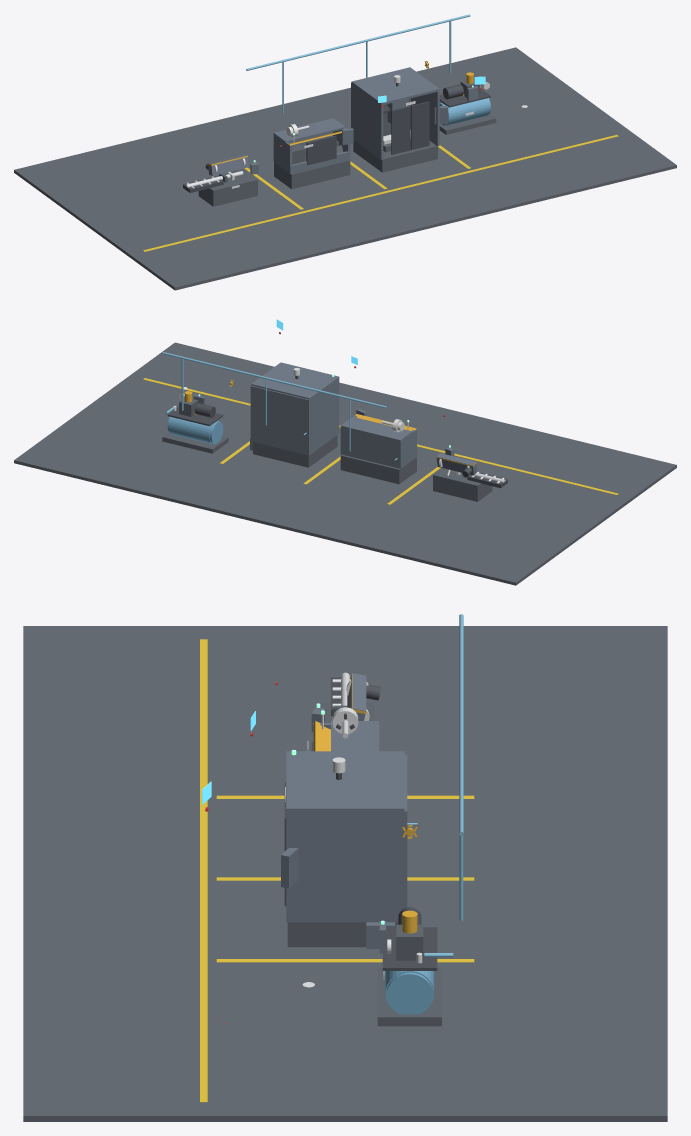
Rendered from factory_scene.glb.
The picture shows the model from 3 angles, top to bottom: view 1: azimuth 30°, elevation 25°; view 2: azimuth 150°, elevation 25°; view 3: azimuth 270°, elevation 25°; orthographic projection. The views are drawn at different scales.
Visible parts, largest first — view 1: FACTORY_FLOOR, VMC_01_ENCLOSURE_ROOF, VMC_01_ENCLOSURE_LEFT, VMC_01_BASE, SAFETY_STRIPE_FRONT, SAW_01_BASE, LATHE_01_BASE, VMC_01_DOOR_LEFT, VMC_01_DOOR_RIGHT, LATHE_01_ENCLOSURE_ROOF, COMP_01_TANK, LATHE_01_DOOR (+6 smaller); view 2: FACTORY_FLOOR, VMC_01_ENCLOSURE_REAR, VMC_01_ENCLOSURE_ROOF, LATHE_01_ENCLOSURE_REAR, VMC_01_ENCLOSURE_LEFT, LATHE_01_BASE, SAW_01_BASE, VMC_01_BASE, LATHE_01_ENCLOSURE_ROOF, SAFETY_STRIPE_FRONT, COMP_01_TANK, UTILITY_AIR_HEADER (+3 smaller); view 3: FACTORY_FLOOR, VMC_01_ENCLOSURE_RIGHT, VMC_01_ENCLOSURE_ROOF, SAFETY_STRIPE_FRONT, VMC_01_BASE, COMP_01_BASE, COMP_01_TANK_HEAD_RIGHT, COMP_01_DECK, LATHE_01_ENCLOSURE_ROOF, UTILITY_AIR_HEADER, COMP_01_AIR_END, SAFETY_STRIPE_AISLE_3 (+1 smaller).
Boxes of the visible parts, x1,y1,x2,y2 form: FACTORY_FLOOR: [14, 47, 676, 290]; VMC_01_ENCLOSURE_ROOF: [351, 67, 439, 104]; VMC_01_ENCLOSURE_LEFT: [352, 84, 383, 159]; VMC_01_BASE: [353, 140, 437, 172]; SAFETY_STRIPE_FRONT: [143, 135, 618, 251]; SAW_01_BASE: [198, 169, 257, 206]; LATHE_01_BASE: [274, 160, 350, 189]; VMC_01_DOOR_LEFT: [391, 106, 410, 154]; VMC_01_DOOR_RIGHT: [410, 101, 429, 149]; LATHE_01_ENCLOSURE_ROOF: [273, 118, 345, 142]; COMP_01_TANK: [439, 98, 489, 125]; LATHE_01_DOOR: [306, 135, 336, 165]; FACTORY_FLOOR: [14, 342, 676, 585]; VMC_01_ENCLOSURE_REAR: [250, 385, 310, 455]; VMC_01_ENCLOSURE_ROOF: [251, 362, 339, 399]; LATHE_01_ENCLOSURE_REAR: [340, 427, 400, 468]; VMC_01_ENCLOSURE_LEFT: [310, 378, 339, 454]; LATHE_01_BASE: [340, 454, 416, 484]; SAW_01_BASE: [433, 468, 492, 501]; VMC_01_BASE: [253, 435, 337, 467]; LATHE_01_ENCLOSURE_ROOF: [340, 417, 412, 441]; SAFETY_STRIPE_FRONT: [143, 378, 618, 494]; COMP_01_TANK: [169, 417, 219, 444]; UTILITY_AIR_HEADER: [162, 352, 386, 408]; FACTORY_FLOOR: [23, 626, 667, 1121]; VMC_01_ENCLOSURE_RIGHT: [286, 811, 404, 922]; VMC_01_ENCLOSURE_ROOF: [286, 751, 404, 813]; SAFETY_STRIPE_FRONT: [200, 639, 207, 1102]; VMC_01_BASE: [287, 922, 398, 947]; COMP_01_BASE: [377, 968, 441, 1026]; COMP_01_TANK_HEAD_RIGHT: [386, 972, 432, 1014]; COMP_01_DECK: [382, 927, 437, 970]; LATHE_01_ENCLOSURE_ROOF: [331, 721, 379, 751]; UTILITY_AIR_HEADER: [459, 614, 463, 835]; COMP_01_AIR_END: [396, 924, 423, 960]; SAFETY_STRIPE_AISLE_3: [216, 959, 474, 962].
Size of the model in its own units: 18 by 3.34 by 10.
